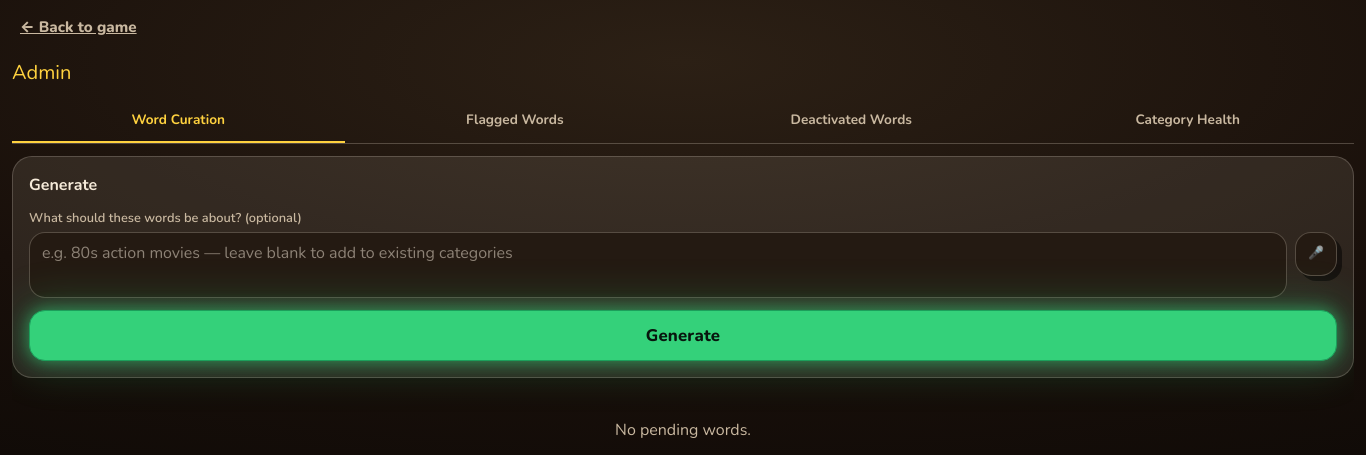
Test: AdminScreen › switches to the Deactivated Words tab and reactivates a word
Expected: the heading "Generate" is shown, [29, 174, 97, 196]
Click the tab "Deactivated Words": (851, 121) [685, 99, 1018, 143]
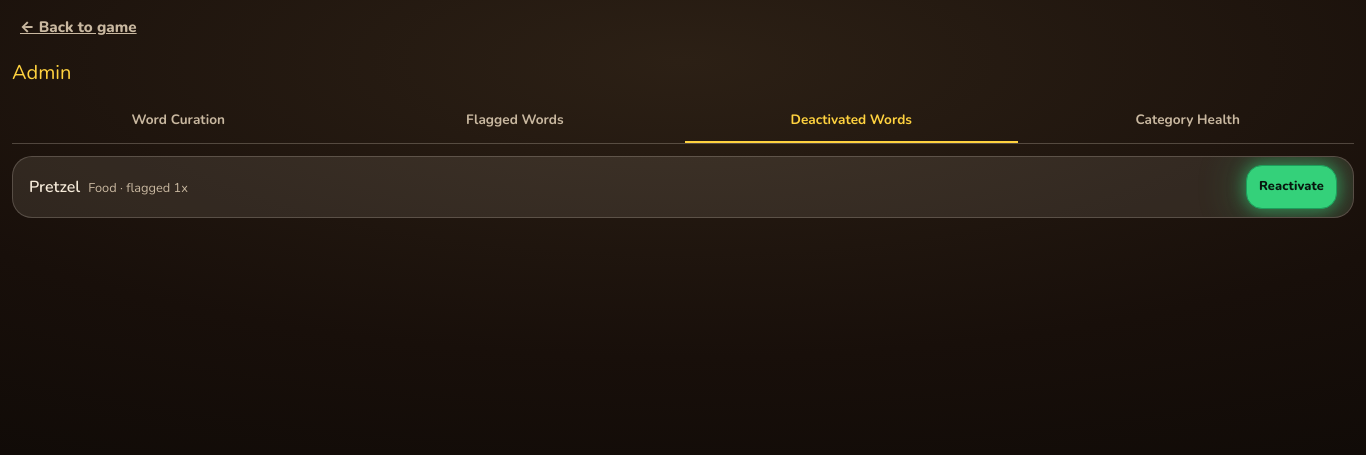
Now the text "Pretzel" is shown, box [29, 176, 80, 198]
Click the button "Reactivate": (1291, 187) [1246, 165, 1337, 209]
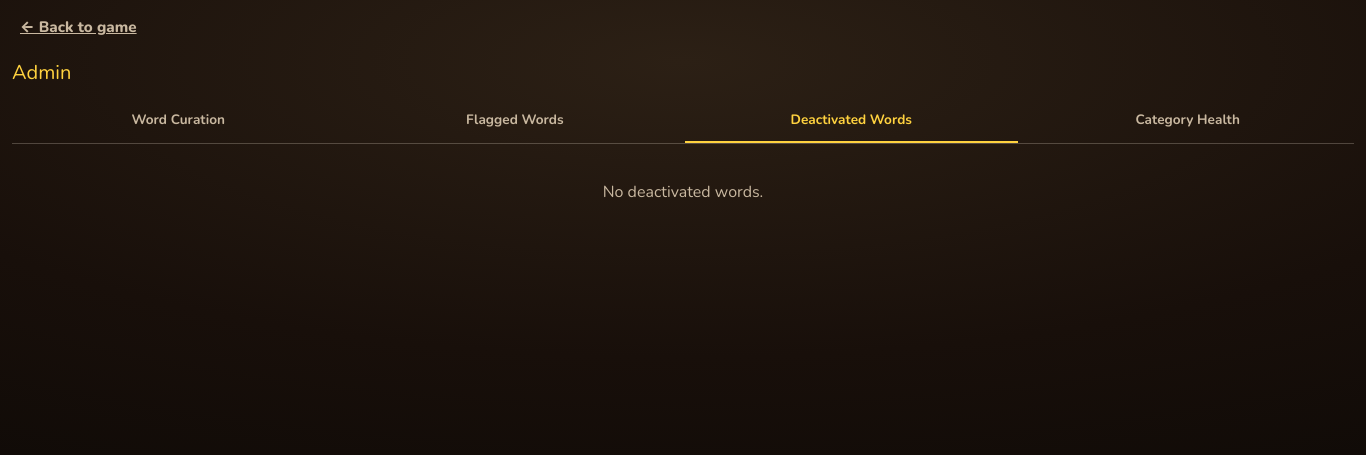
Now the text "No deactivated words." is shown, box [603, 181, 763, 203]
